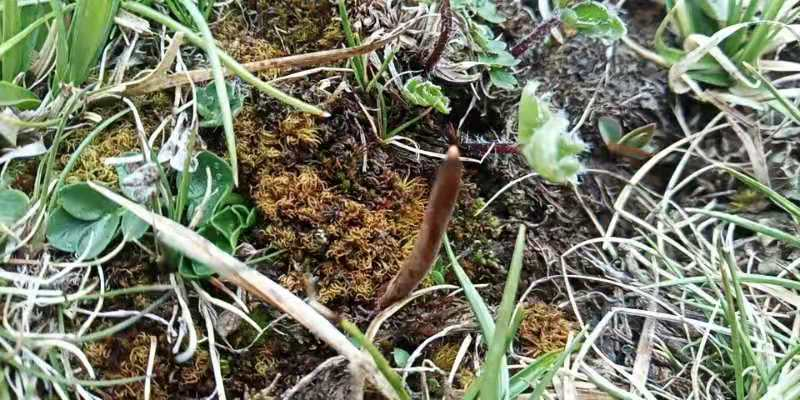cpf: (379, 142, 467, 303)
